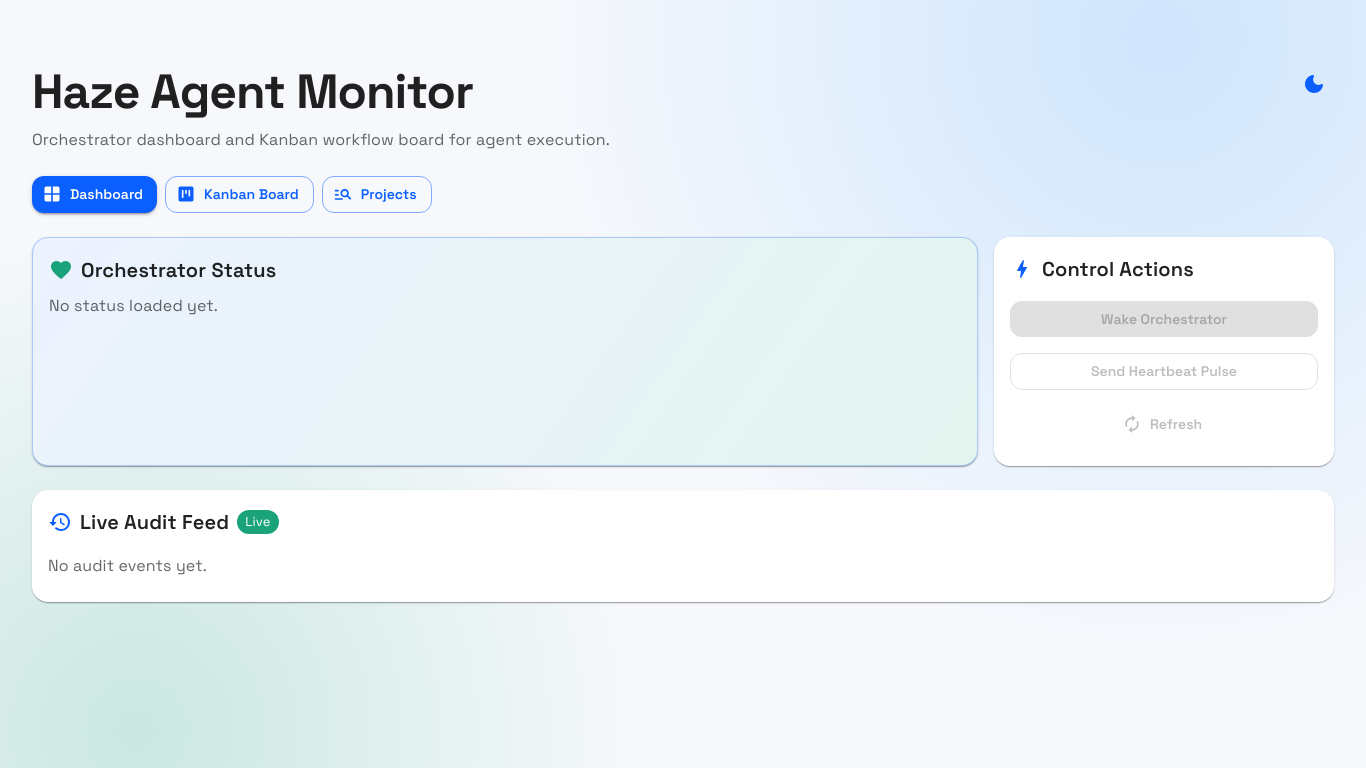
it: App › navigates to kanban board and loads task cards
What coordinates should you click on to do the following:
click the button "Kanban Board"
I would click on:
 (239, 194)
Its box is [165,176,314,212].
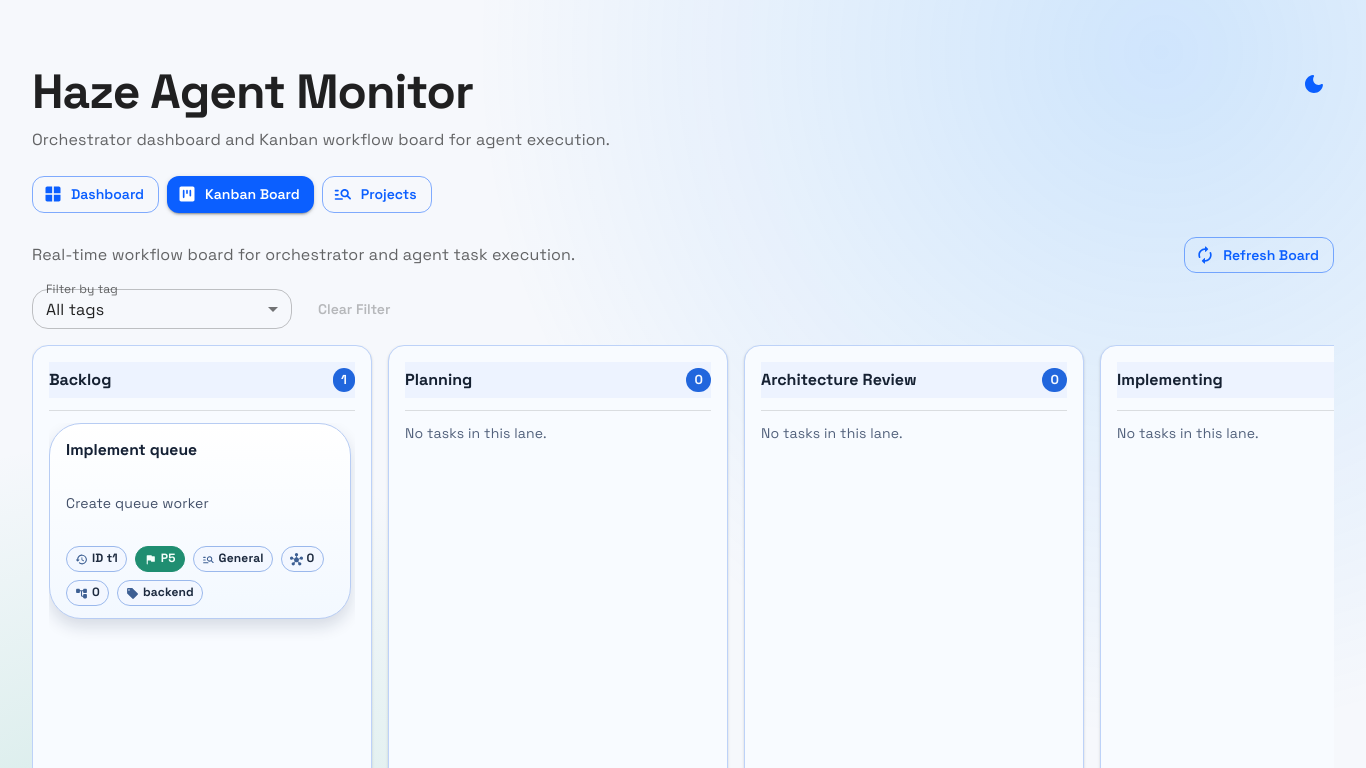
Expected: the text "Real-time workflow board" is shown, [32,244,575,265]
Expected: the button "Implement queue" is shown, [66,440,334,460]
Expected: the text "P5" is shown, [161,549,176,569]
